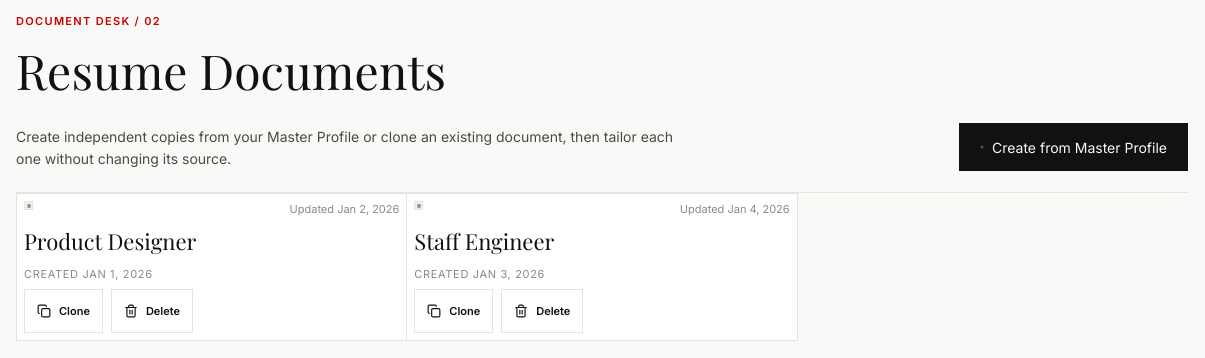
Test: DocumentsList › deletes a Resume Document
What coordinates should you click on to do the following:
click the button with aria-label "Delete Product Designer"
I would click on:
 (152, 311)
Its box is [111,289,193,333].
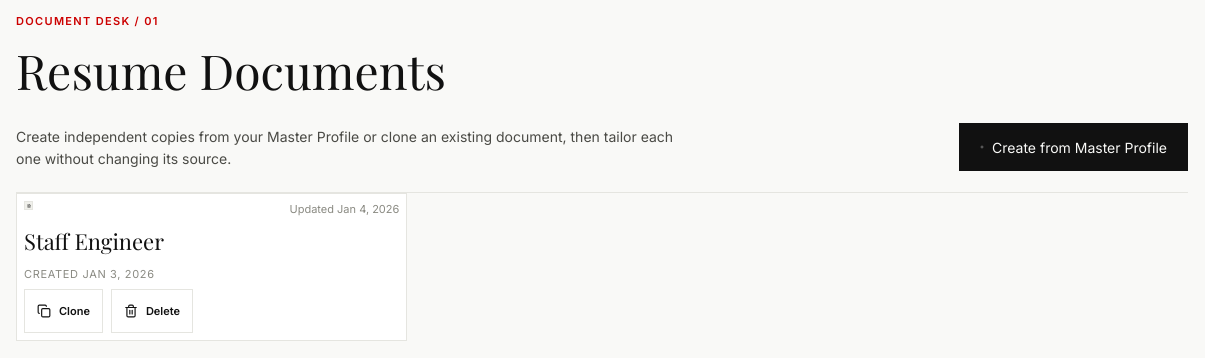
Expected: the link "Product Designer" is gone
